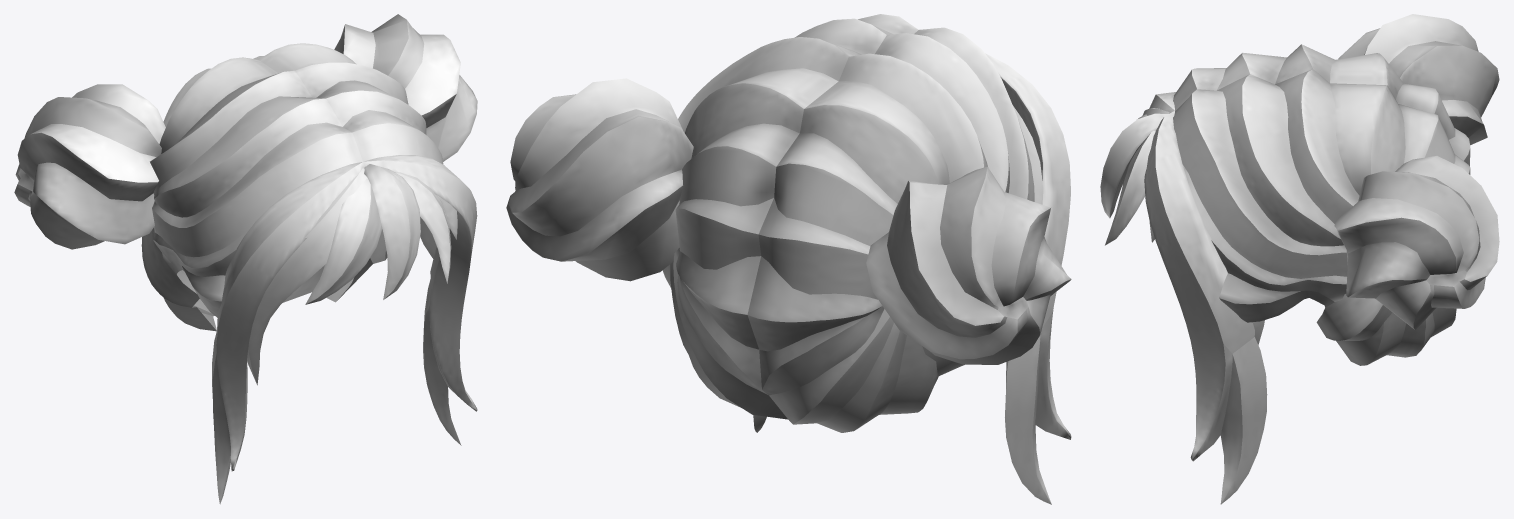
The model's file is hair_buns.glb.
3 renders of one model, left to right at view 1: azimuth 30°, elevation 25°; view 2: azimuth 150°, elevation 25°; view 3: azimuth 270°, elevation 25°, orthographic. The views are drawn at different scales.
Parts seen in each view (by area): view 1: Hair_Buns; view 2: Hair_Buns; view 3: Hair_Buns.
Part boxes in pixels (x1=…): Hair_Buns: x1=14, y1=14, x2=477, y2=504; Hair_Buns: x1=506, y1=14, x2=1071, y2=504; Hair_Buns: x1=1100, y1=14, x2=1499, y2=504.
Size of the model in its own units: 0.3015 by 0.2491 by 0.2368.
1 material, 1 textured.
